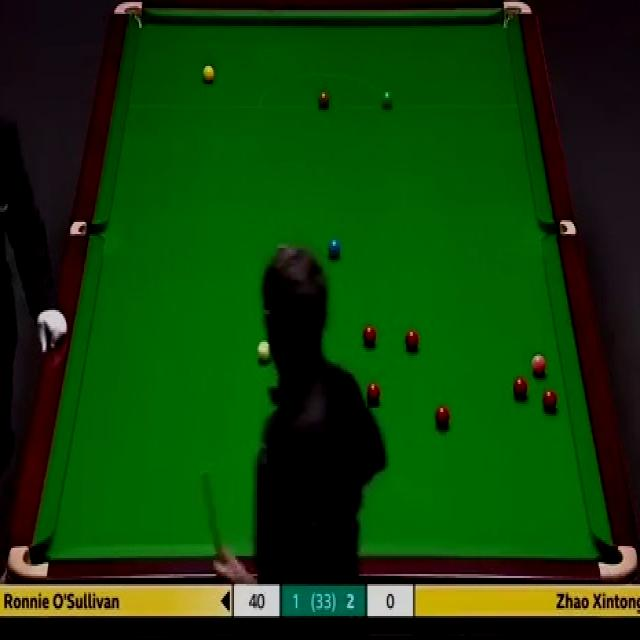blue-ball: (328, 236, 341, 262)
brown-ball: (317, 91, 331, 109)
green-ball: (380, 88, 395, 110)
pink-ball: (530, 354, 548, 374)
red-ball: (434, 404, 450, 430), (362, 323, 378, 347), (365, 382, 380, 406), (542, 388, 558, 410), (406, 328, 420, 352), (512, 376, 528, 397)
white-ball: (255, 342, 271, 362)
yellow-ball: (203, 66, 215, 85)
